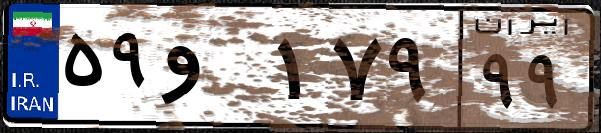1: (270, 28, 330, 110)
5: (57, 26, 110, 100)
7: (330, 28, 385, 110)
9: (385, 28, 445, 110), (475, 38, 525, 113), (525, 38, 570, 115), (110, 28, 158, 98)
و: (158, 20, 270, 120)
